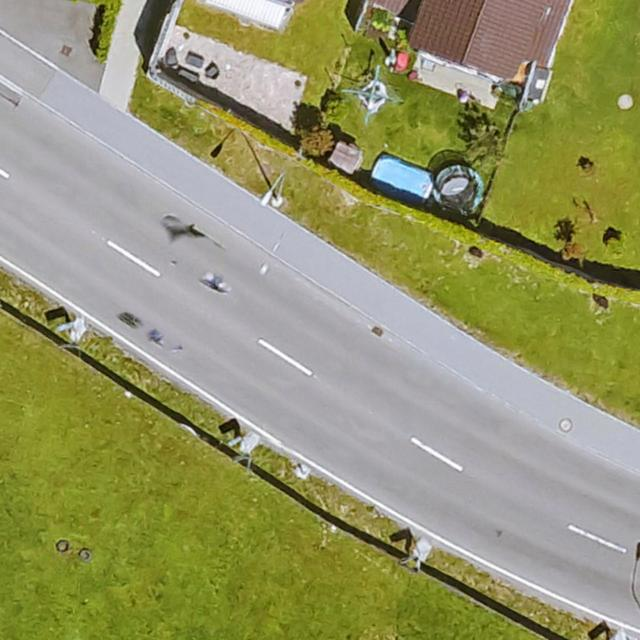tree: (464, 122, 505, 170), (300, 124, 336, 160)
